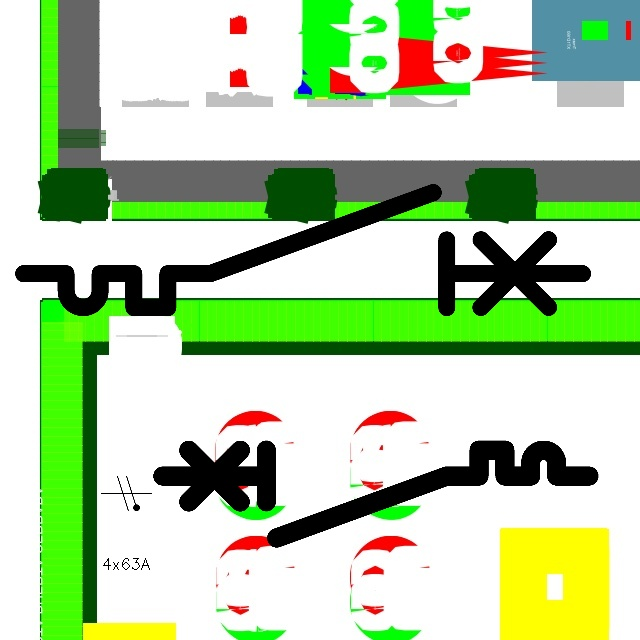interruptor_termomagnetico: (9, 178, 596, 322), (151, 439, 599, 548)
